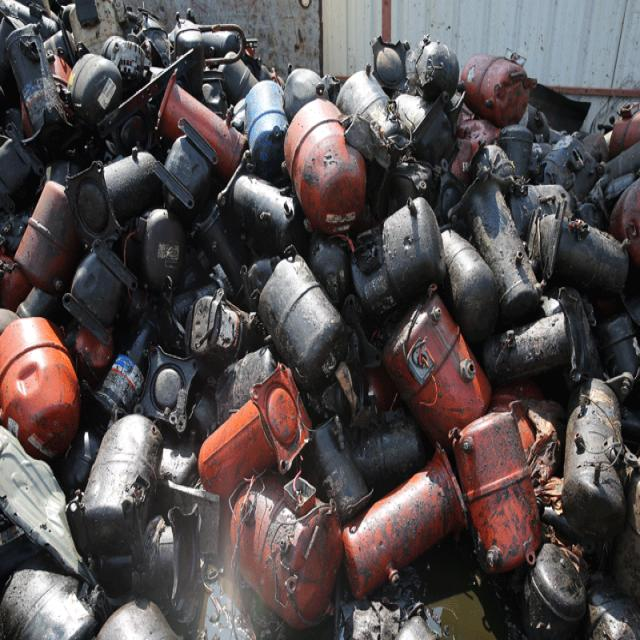Canisters: (258, 252, 349, 399), (559, 379, 626, 545), (335, 64, 410, 162), (518, 539, 589, 640)
Cylinder: (340, 453, 467, 600), (382, 304, 494, 445), (448, 412, 541, 575), (283, 101, 367, 243)
